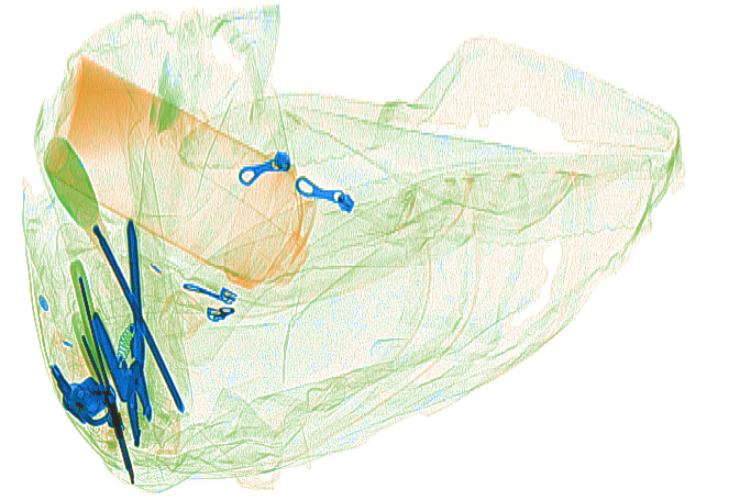scissors: (68, 259, 134, 484)
